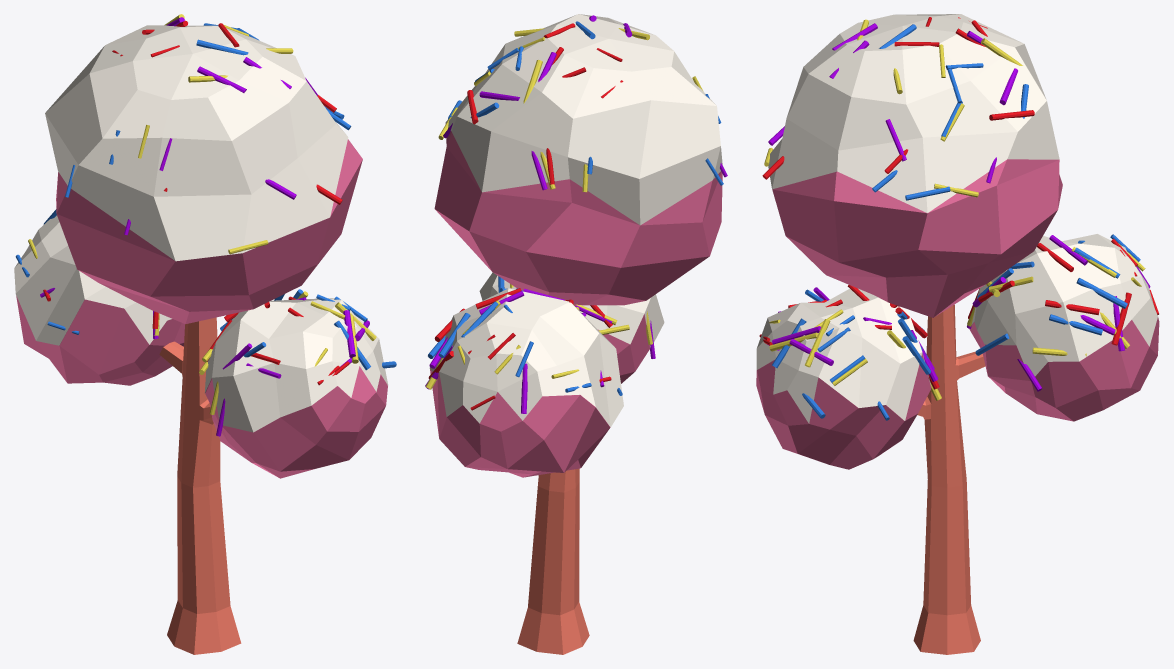
File: Tree_stem_01.029.fbx
3 views of the same model, side by side, from view 1: azimuth 30°, elevation 25°; view 2: azimuth 150°, elevation 25°; view 3: azimuth 270°, elevation 25° (orthographic). The views are drawn at different scales.
Visible parts, largest first — view 1: Tree_stem_01.029; view 2: Tree_stem_01.029; view 3: Tree_stem_01.029.
Part boxes in pixels (x1,y1,x2,y2): Tree_stem_01.029: (14, 14, 396, 654); Tree_stem_01.029: (425, 14, 727, 654); Tree_stem_01.029: (756, 14, 1159, 654).
Bounding box in the file's own units: 152 × 314 × 190.
